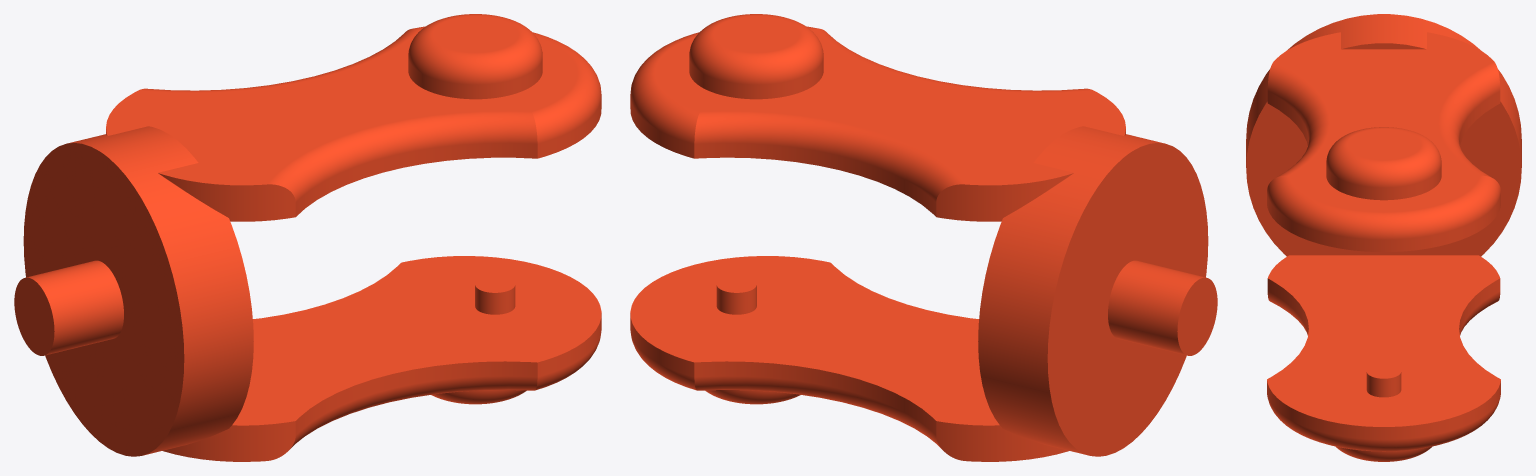
File: part5 - PartBody.obj
The picture shows the model from 3 angles, left to right: view 1: azimuth 30°, elevation 25°; view 2: azimuth 150°, elevation 25°; view 3: azimuth 270°, elevation 25°; orthographic projection. The views are drawn at different scales.
Visible parts, largest first — view 1: mesh11, mesh2, mesh31, mesh3, mesh23, mesh1, mesh33, mesh9, mesh24, mesh22, mesh7, mesh8 (+10 smaller); view 2: mesh11, mesh2, mesh31, mesh3, mesh29, mesh1, mesh33, mesh13, mesh30, mesh27, mesh12, mesh15 (+10 smaller); view 3: mesh11, mesh31, mesh6, mesh28, mesh3, mesh33, mesh10, mesh25, mesh23, mesh29, mesh14, mesh34 (+11 smaller).
Boxes of the visible parts, <box> form: mesh11: <box>232,256,601,425</box>; mesh2: <box>23,143,184,456</box>; mesh31: <box>106,29,577,185</box>; mesh3: <box>67,126,253,455</box>; mesh23: <box>267,111,537,202</box>; mesh1: <box>26,260,123,355</box>; mesh33: <box>408,14,542,84</box>; mesh9: <box>295,361,537,435</box>; mesh24: <box>295,143,537,216</box>; mesh22: <box>158,173,295,221</box>; mesh7: <box>162,421,295,461</box>; mesh8: <box>290,376,537,448</box>; mesh11: <box>630,256,999,425</box>; mesh2: <box>1047,143,1208,456</box>; mesh31: <box>654,29,1125,185</box>; mesh3: <box>978,126,1164,455</box>; mesh29: <box>694,111,964,202</box>; mesh1: <box>1108,260,1205,355</box>; mesh33: <box>689,14,823,84</box>; mesh13: <box>694,361,936,435</box>; mesh30: <box>694,143,936,216</box>; mesh27: <box>936,173,1073,221</box>; mesh12: <box>936,421,1068,461</box>; mesh15: <box>694,376,941,448</box>; mesh11: <box>1267,255,1500,426</box>; mesh31: <box>1274,32,1493,212</box>; mesh6: <box>1246,101,1521,256</box>; mesh28: <box>1267,175,1500,239</box>; mesh3: <box>1246,14,1521,167</box>; mesh33: <box>1326,127,1441,187</box>; mesh10: <box>1267,381,1500,439</box>; mesh25: <box>1267,194,1500,251</box>; mesh23: <box>1267,61,1329,176</box>; mesh29: <box>1438,61,1500,176</box>; mesh14: <box>1267,393,1500,451</box>; mesh34: <box>1347,129,1420,160</box>.
Size of the model in its own units: 0.0789 by 0.048 by 0.04.
